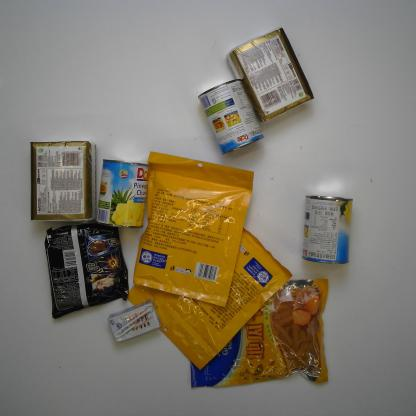Canned Food: (196, 76, 268, 158), (93, 157, 151, 232), (298, 194, 355, 267)
Dried Fruit: (123, 204, 295, 372), (131, 151, 255, 309), (183, 275, 330, 396)
Instant Noodles: (43, 219, 131, 321)
Milk: (106, 298, 164, 344)
Tissue: (227, 24, 316, 126), (26, 138, 97, 224)
